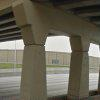Bridge: (4, 0, 94, 70)
